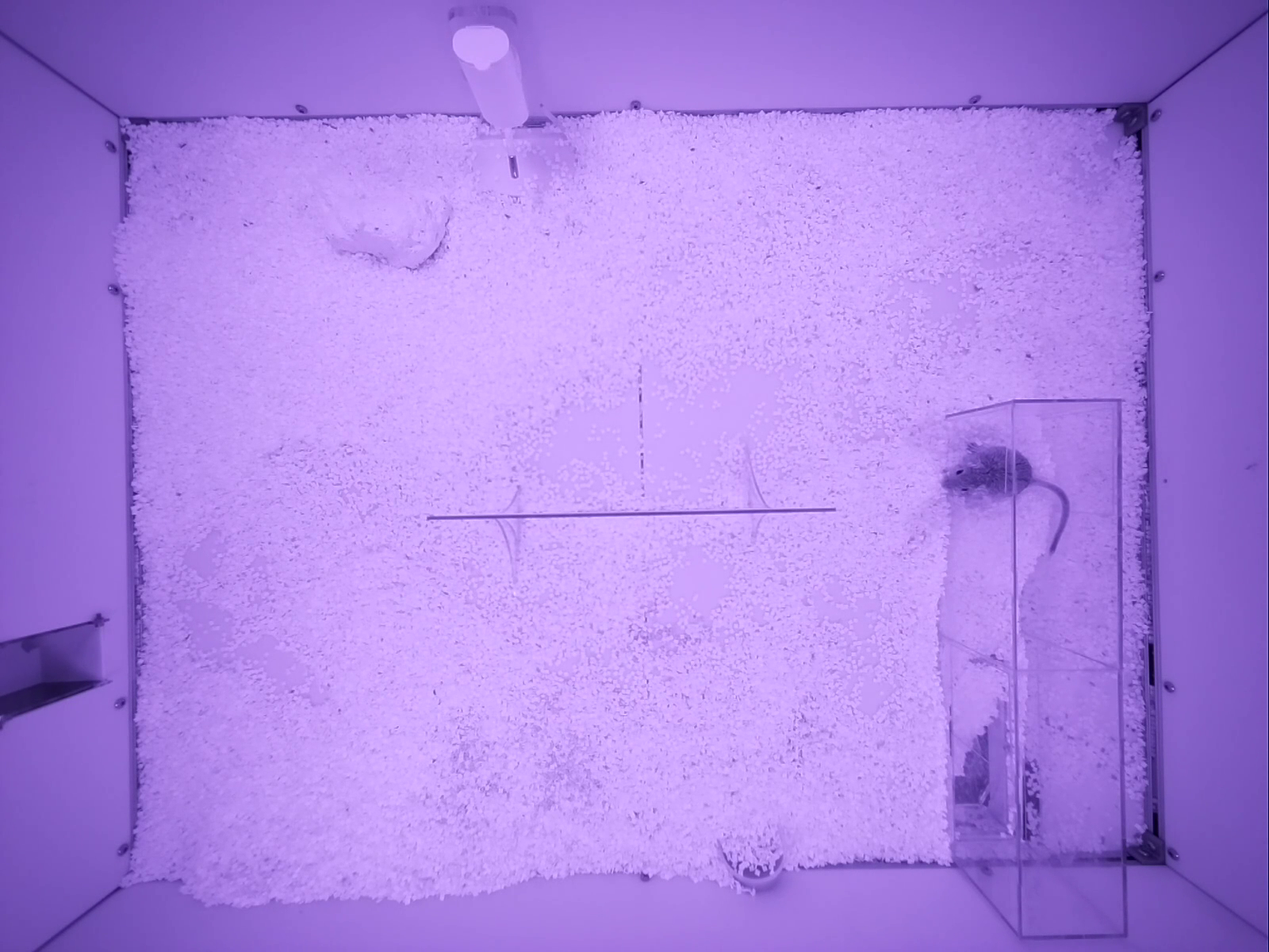adult_back: (942, 443, 1068, 551)
